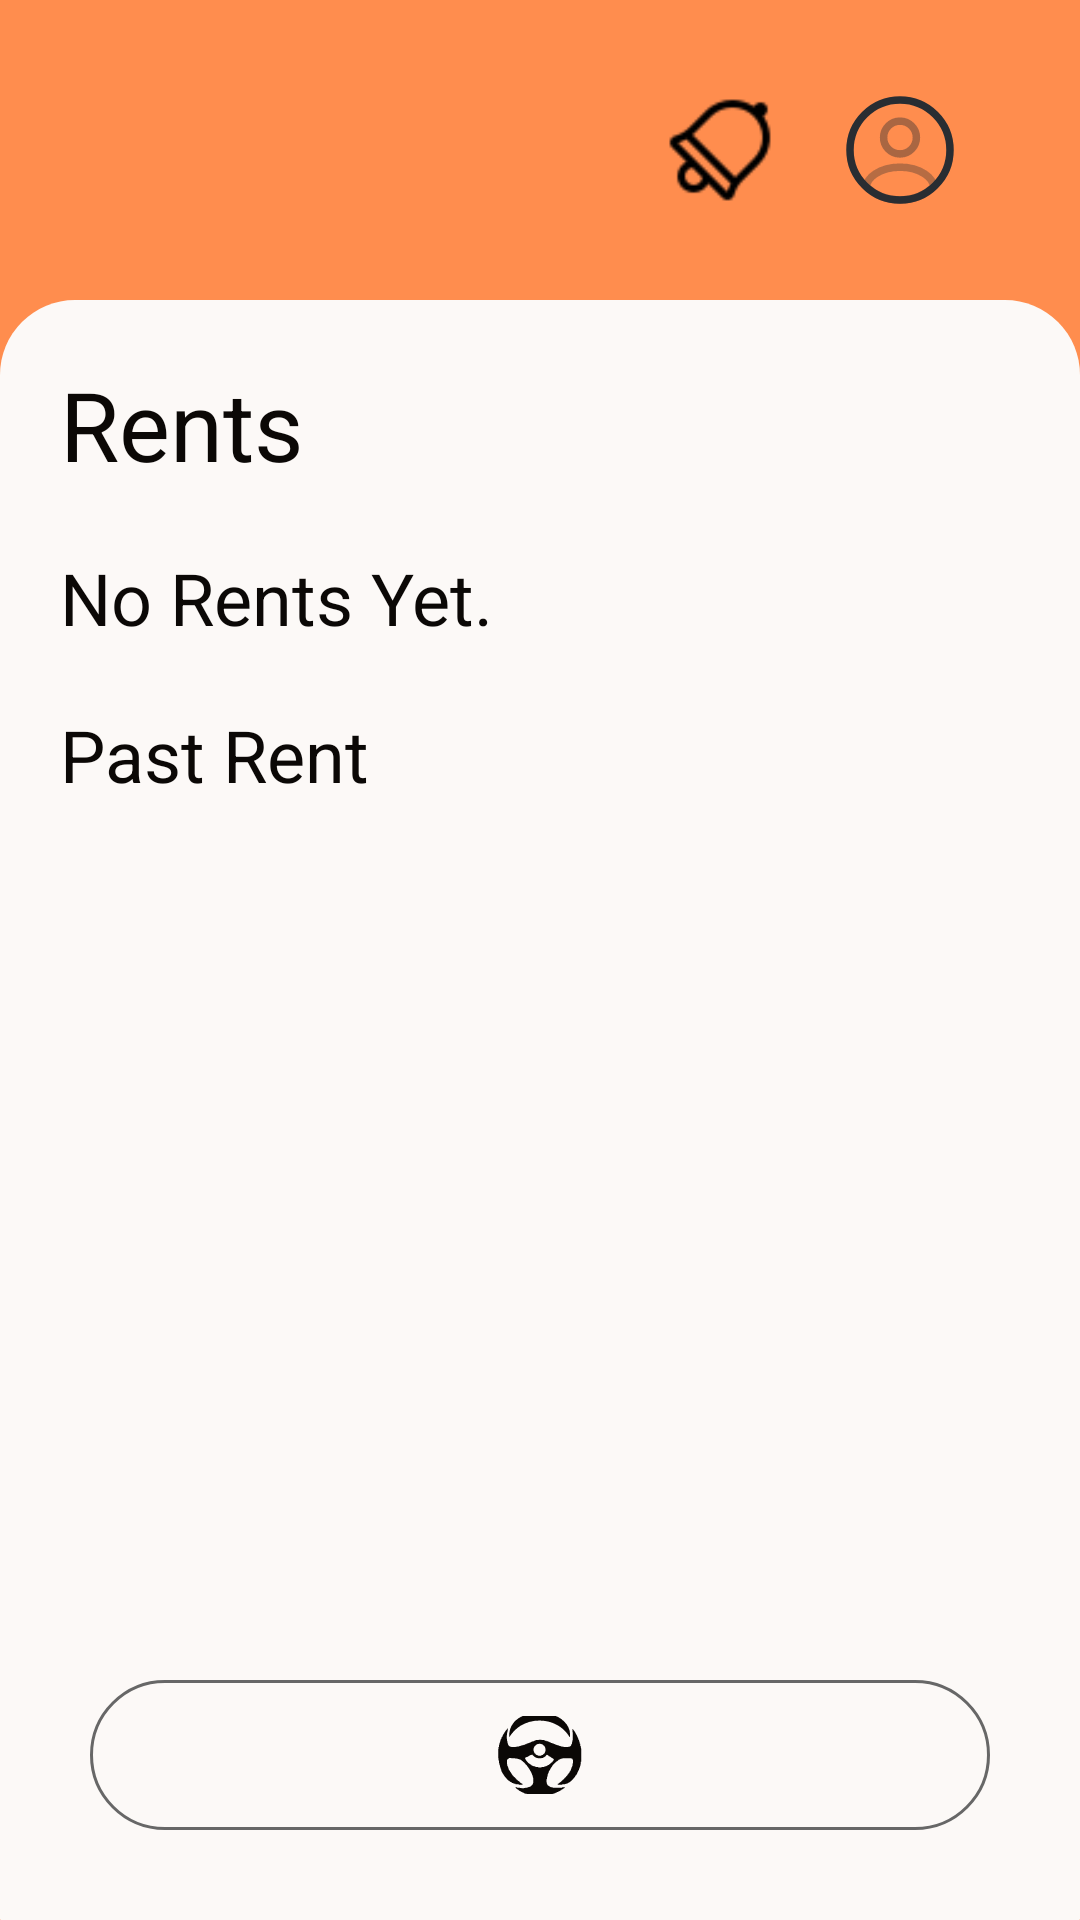

Icons on this 1080px x 1920px Android screen, each with the point to tap as [x,y]:
bell: [720,150]
profile circle: [900,150]
